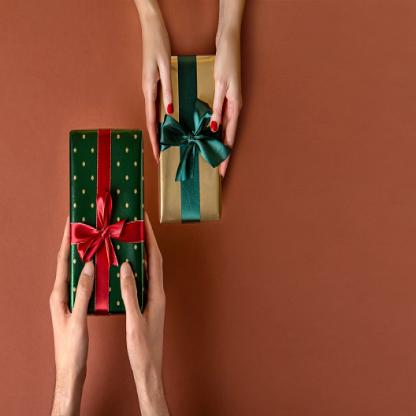present: (144, 32, 246, 225), (61, 121, 155, 329)
